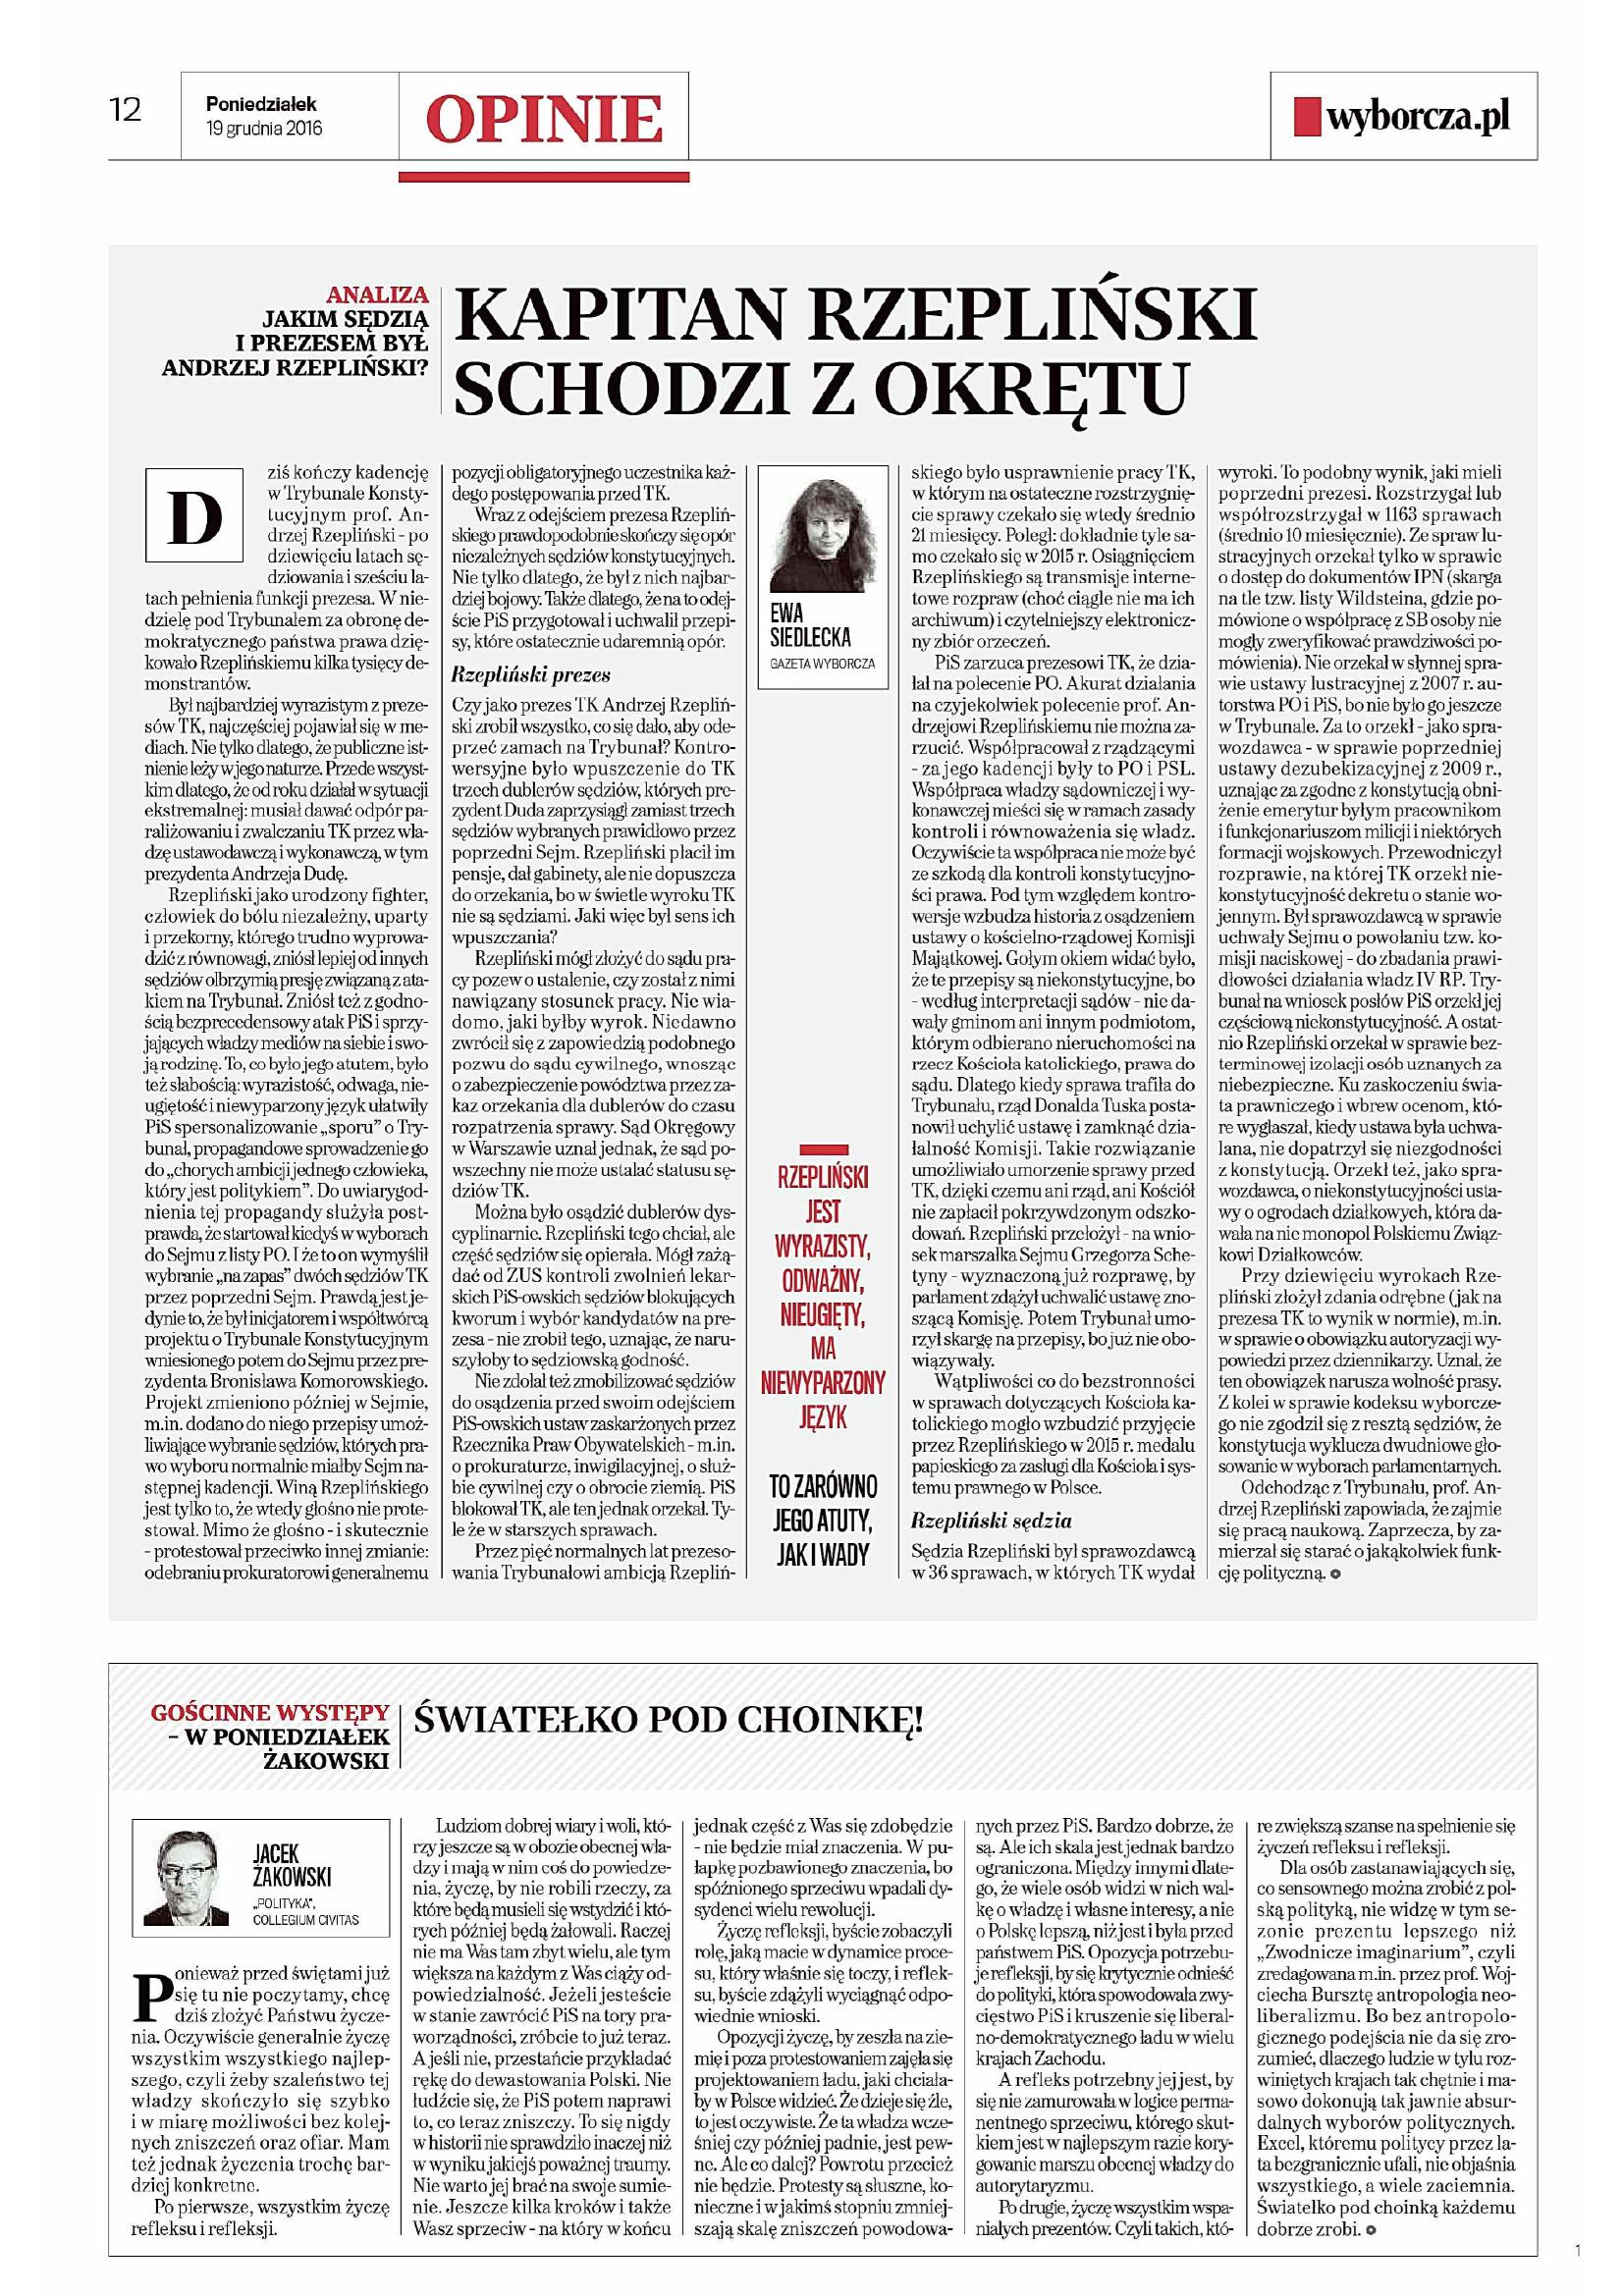article: (105, 240, 1544, 1622), (98, 1657, 1544, 2264)
